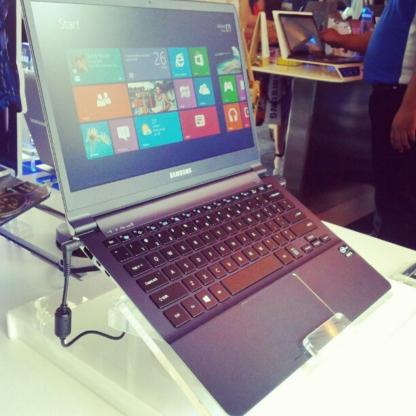board: (20, 2, 394, 416), (278, 14, 360, 64)
